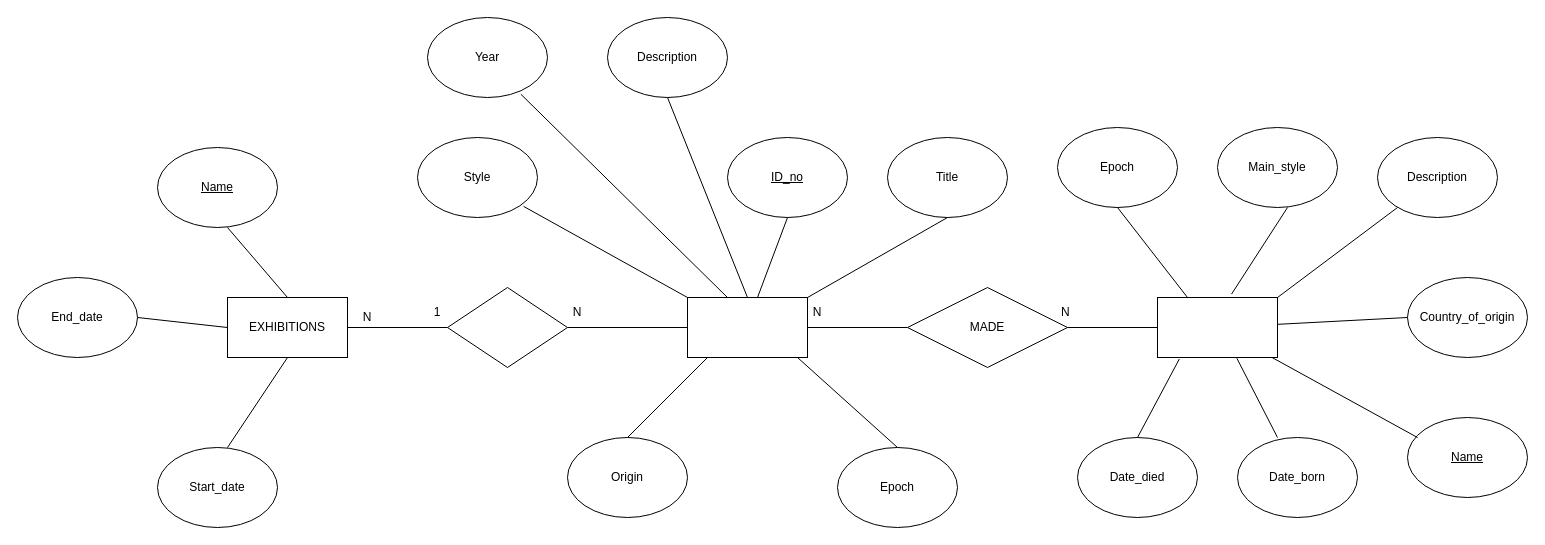
Some shapes in this 1545 by 545 pixel diagram are drawn without their labels. The shapes that lost their labels are listed below. From the top down, each one's centre as x and y in pixels, then its label:
(x=507, y=327): DISPLAYED
(x=747, y=327): ART_OBJECTS
(x=1217, y=327): ARTIST
